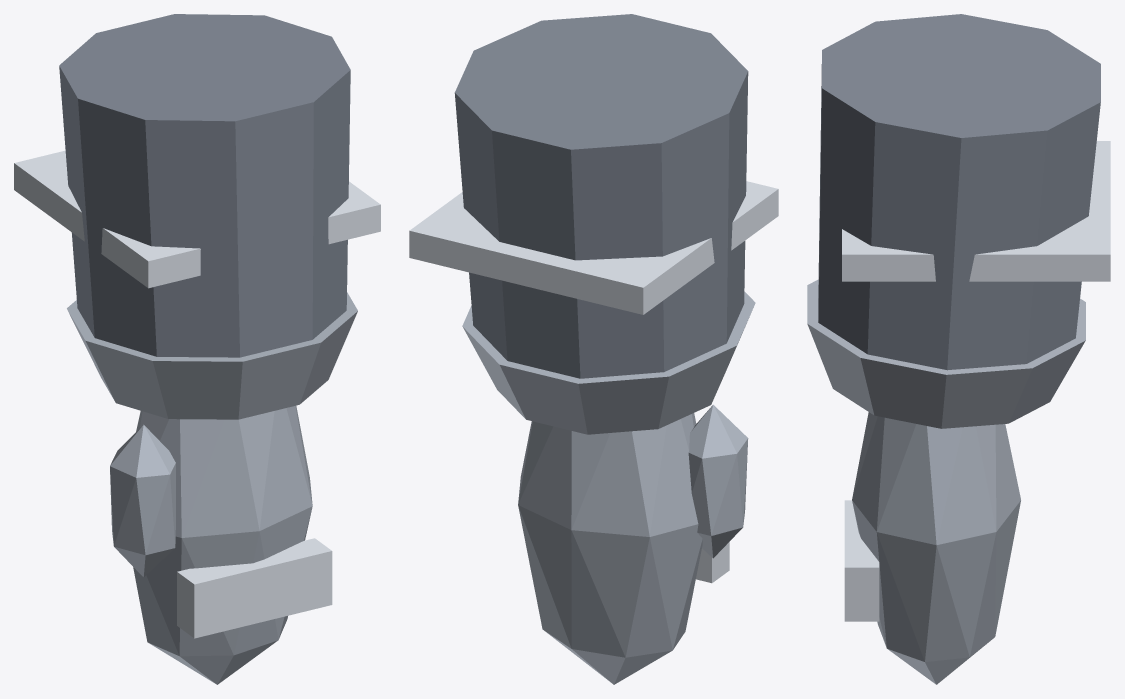
Rendered from gear_steel_gauntlets_arm_l.glb.
The picture shows the model from 3 angles, left to right: view 1: azimuth 30°, elevation 25°; view 2: azimuth 150°, elevation 25°; view 3: azimuth 270°, elevation 25°; orthographic projection.
Visible parts, largest first — view 1: gear_steel_gauntlets_arm_l; view 2: gear_steel_gauntlets_arm_l; view 3: gear_steel_gauntlets_arm_l.
Boxes of the visible parts, box(x1,y1,x2,y2) form: gear_steel_gauntlets_arm_l: box(14, 14, 380, 684); gear_steel_gauntlets_arm_l: box(409, 14, 778, 684); gear_steel_gauntlets_arm_l: box(807, 14, 1110, 684).
Size of the model in its own units: 0.118 by 0.2731 by 0.122.
